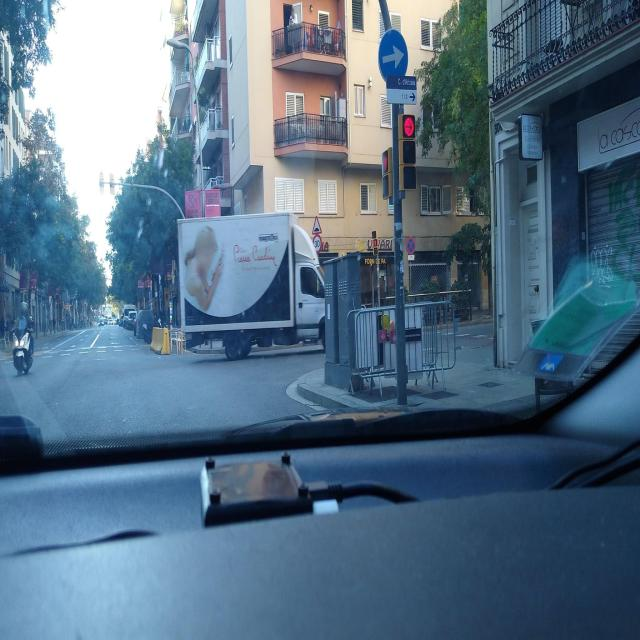bike: (12, 320, 36, 376), (142, 316, 163, 343)
car: (98, 321, 104, 327), (108, 320, 113, 326)
